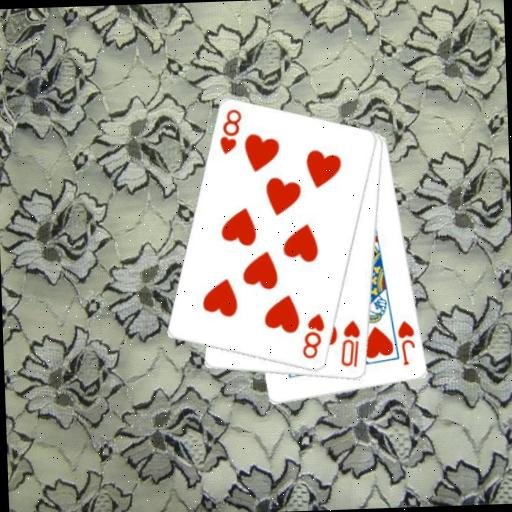10H: (336, 318, 363, 370)
8H: (298, 310, 328, 361), (215, 106, 244, 156)
JH: (394, 317, 417, 368)
